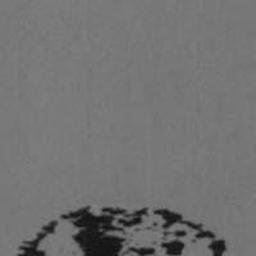Inclusion: (14, 204, 228, 256)
